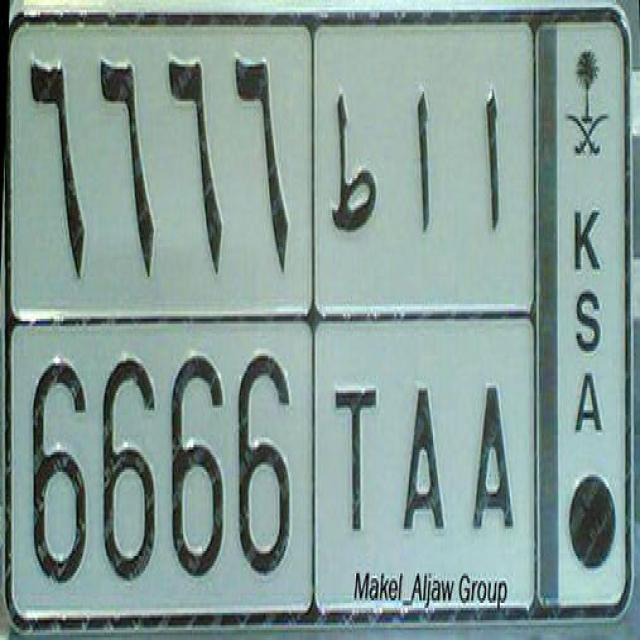license_plate: (7, 314, 544, 624)
